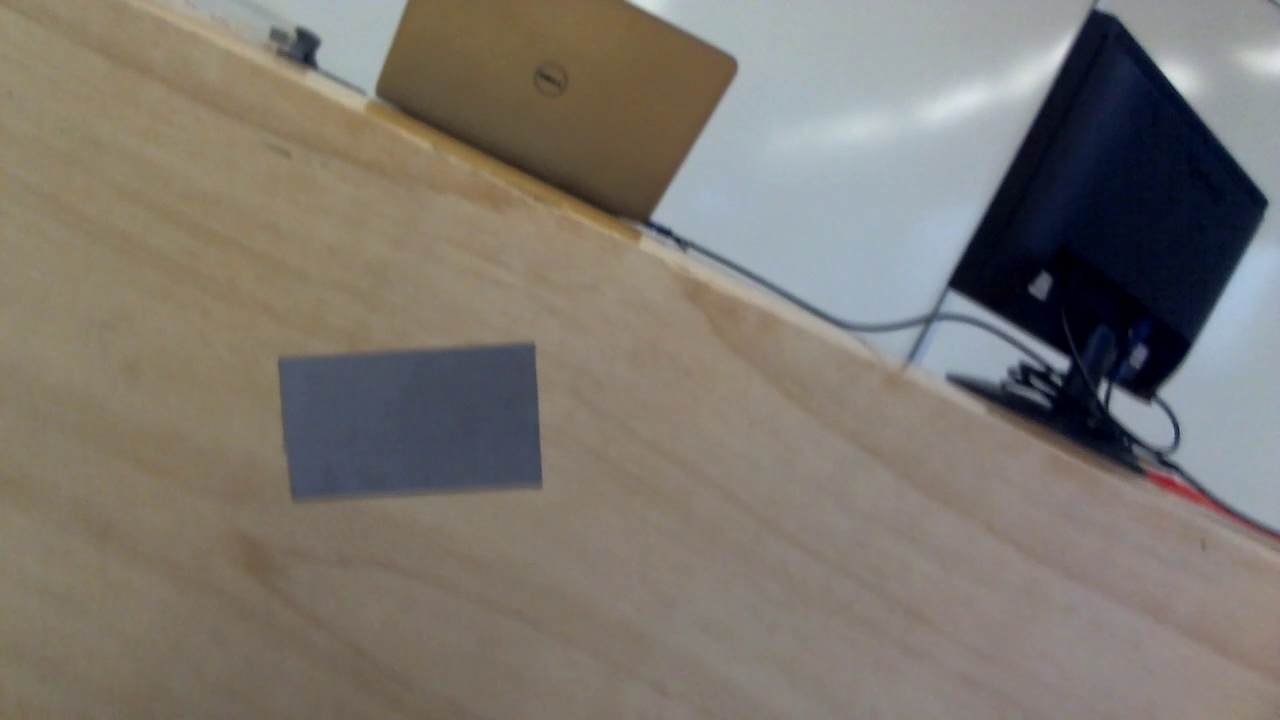Tape: (278, 341, 546, 505)
